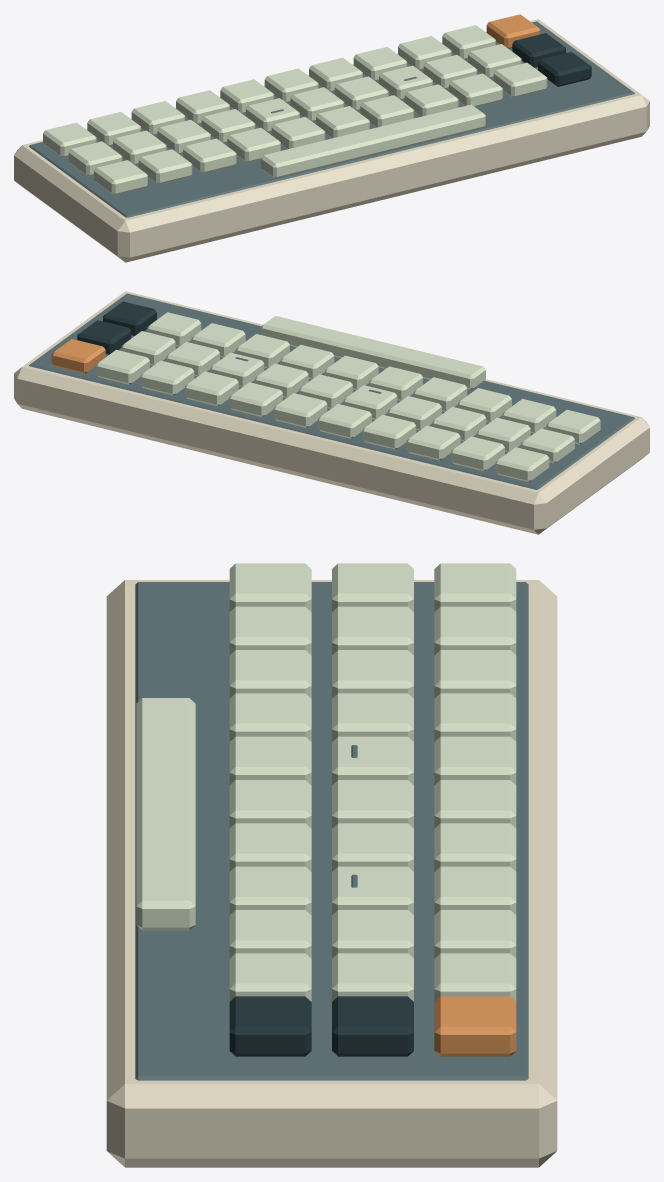
The model's file is keyboard.glb.
The picture shows the model from 3 angles, top to bottom: view 1: azimuth 30°, elevation 25°; view 2: azimuth 150°, elevation 25°; view 3: azimuth 270°, elevation 25°; orthographic projection. The views are drawn at different scales.
Visible parts, largest first — view 1: Body, Well, Space, Key22, Key23, Key31, Key32, Key24, Key30, Key25, Key26, Key28 (+24 smaller); view 2: Body, Well, Space, Key00, Key02, Key08, Key10, Key03, Key05, Key01, Key04, Key07 (+24 smaller); view 3: Body, Well, Space, Key10, Key32, Key21, Key24, Key27, Key01, Key02, Key04, Key05 (+24 smaller).
Part boxes in pixels (x1,y1,x2,y2): Body: [14, 19, 649, 262]; Well: [29, 21, 634, 217]; Space: [261, 104, 485, 178]; Key22: [94, 160, 147, 195]; Key23: [138, 149, 192, 184]; Key31: [493, 62, 547, 97]; Key32: [538, 52, 591, 86]; Key24: [183, 138, 236, 173]; Key30: [449, 73, 502, 106]; Key25: [227, 127, 280, 162]; Key26: [271, 117, 325, 148]; Key28: [360, 95, 414, 127]; Body: [14, 291, 649, 534]; Well: [29, 293, 634, 489]; Space: [261, 316, 485, 389]; Key00: [495, 447, 549, 482]; Key02: [406, 425, 460, 460]; Key08: [140, 360, 194, 395]; Key10: [51, 339, 105, 373]; Key03: [362, 414, 416, 449]; Key05: [273, 393, 327, 427]; Key01: [451, 436, 504, 471]; Key04: [318, 404, 371, 438]; Key07: [185, 371, 238, 406]; Body: [106, 580, 557, 1167]; Well: [135, 582, 528, 1080]; Space: [136, 698, 195, 930]; Key10: [434, 996, 516, 1056]; Key32: [229, 996, 311, 1056]; Key21: [332, 996, 413, 1056]; Key24: [229, 650, 311, 698]; Key27: [229, 780, 311, 828]; Key01: [434, 606, 516, 655]; Key02: [434, 650, 516, 698]; Key04: [434, 736, 516, 785]; Key05: [434, 780, 516, 828].
Size of the model in its own units: 0.6 by 0.0633 by 0.22.
